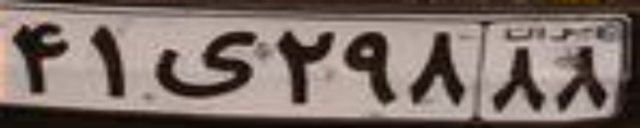1: (88, 24, 126, 96)
2: (277, 29, 336, 104)
4: (10, 21, 69, 93)
8: (405, 30, 462, 106), (489, 45, 546, 111), (553, 45, 606, 111)
9: (342, 29, 395, 103)
ye: (153, 30, 256, 99)
